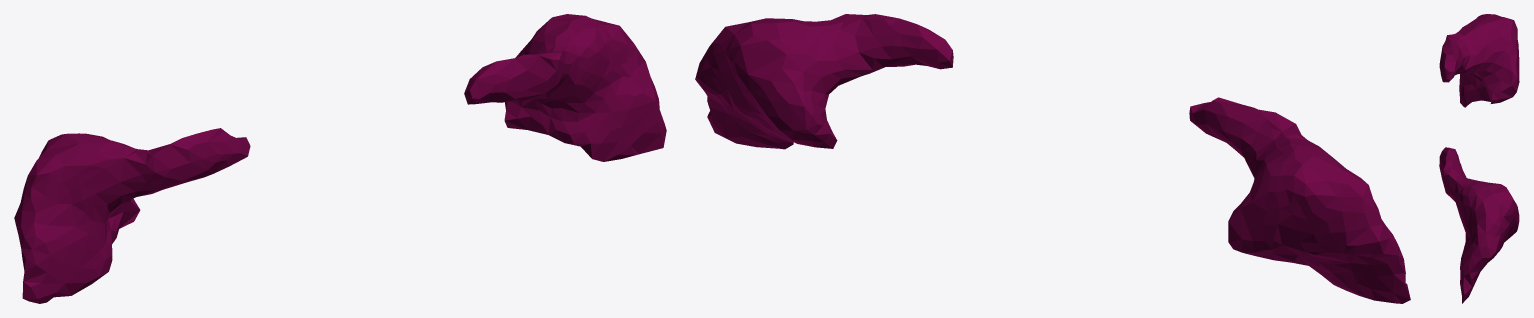
Rendered from 71-Pir-piriform cortex-('0.4980', '0.0000', '0.3059').obj.
The picture shows the model from 3 angles, left to right: view 1: azimuth 30°, elevation 25°; view 2: azimuth 150°, elevation 25°; view 3: azimuth 270°, elevation 25°; orthographic projection. The views are drawn at different scales.
Size of the model in its own units: 204 by 42.4 by 31.16.
